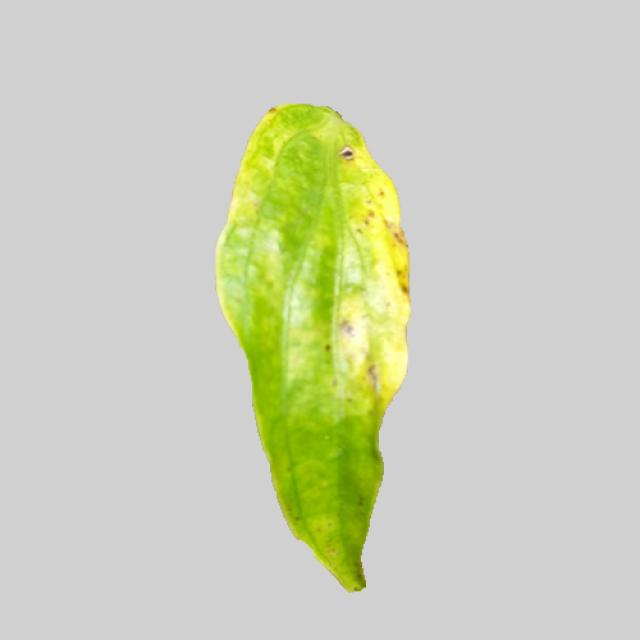yellow-mottle-virus: (214, 105, 411, 594)
